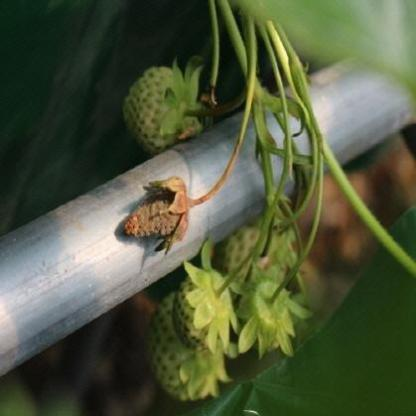Strawberry_Gray_Mold: (122, 176, 196, 257)
